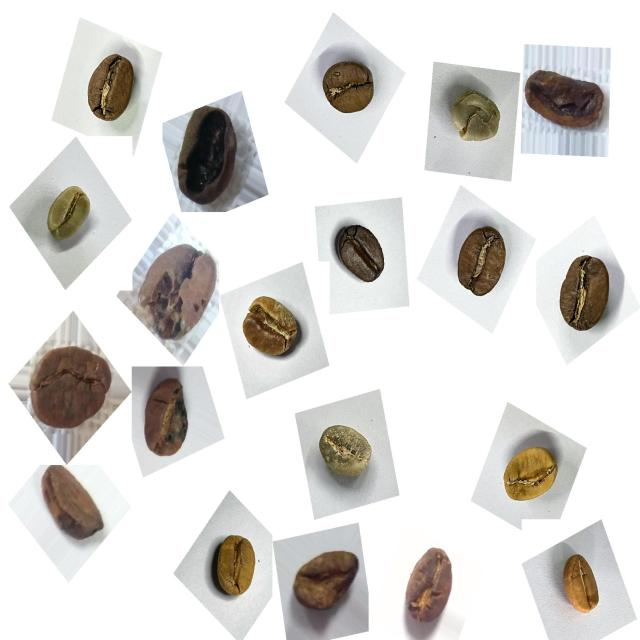bad: (23, 331, 124, 437), (168, 93, 252, 214), (132, 235, 221, 349), (520, 56, 612, 146), (286, 535, 366, 627), (34, 458, 110, 552), (138, 368, 204, 468), (395, 538, 463, 634)
dark: (329, 214, 397, 298)
green: (309, 413, 383, 496), (438, 75, 511, 157), (38, 176, 102, 253)
light: (494, 434, 570, 519), (201, 526, 265, 611), (554, 545, 610, 627)
medium: (546, 244, 622, 344), (446, 216, 518, 311), (233, 284, 309, 368), (74, 45, 145, 133), (313, 51, 384, 127)
